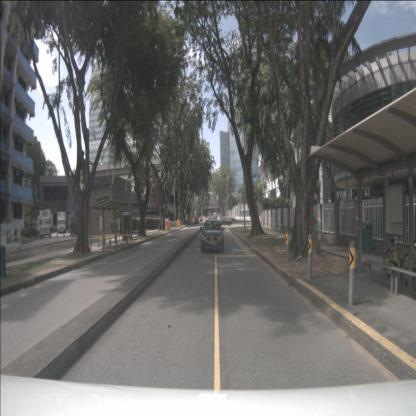human-pedestrian-adult: (165, 218, 167, 228), (167, 218, 169, 228)
vehicle-bicycle: (384, 238, 416, 284), (400, 240, 416, 286)
vehicle-car: (201, 219, 224, 252), (217, 218, 233, 226), (194, 217, 199, 225), (199, 216, 203, 224)
vehicle-truck: (34, 214, 54, 235), (39, 210, 51, 238), (57, 212, 66, 234)
